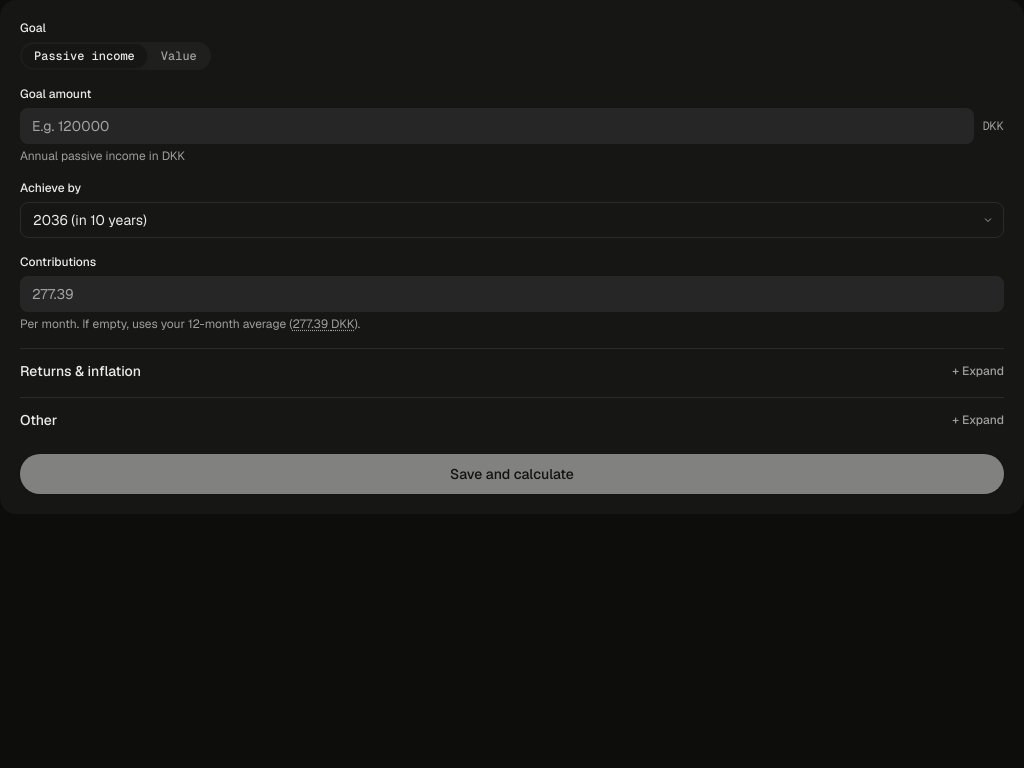
GoalForm › renders passive-income mode with computed-default hints
Check: the button "Save and calculate" is shown, box left=20, top=454, right=1004, bottom=494
Check: the element named "Goal" is shown, box left=20, top=42, right=211, bottom=70
// yield/growth hints show the calculated values
What coordinates should you click on to do the following:
click the button "Returns & inflation + Expand"
I would click on:
 (80, 371)
Its box is left=20, top=361, right=1004, bottom=381.
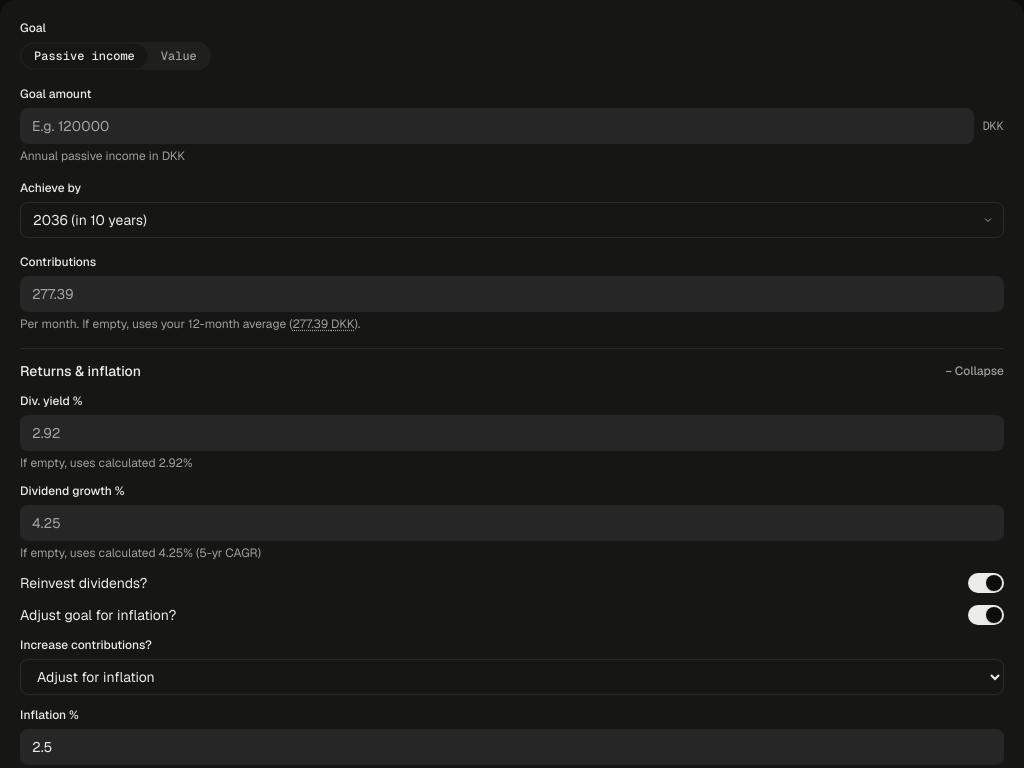
Check: the text "If empty, uses calculated 2.92%" is shown, box left=20, top=455, right=193, bottom=471
Check: the text "If empty, uses calculated 4.25% (5-yr CAGR)" is shown, box left=20, top=545, right=261, bottom=561
